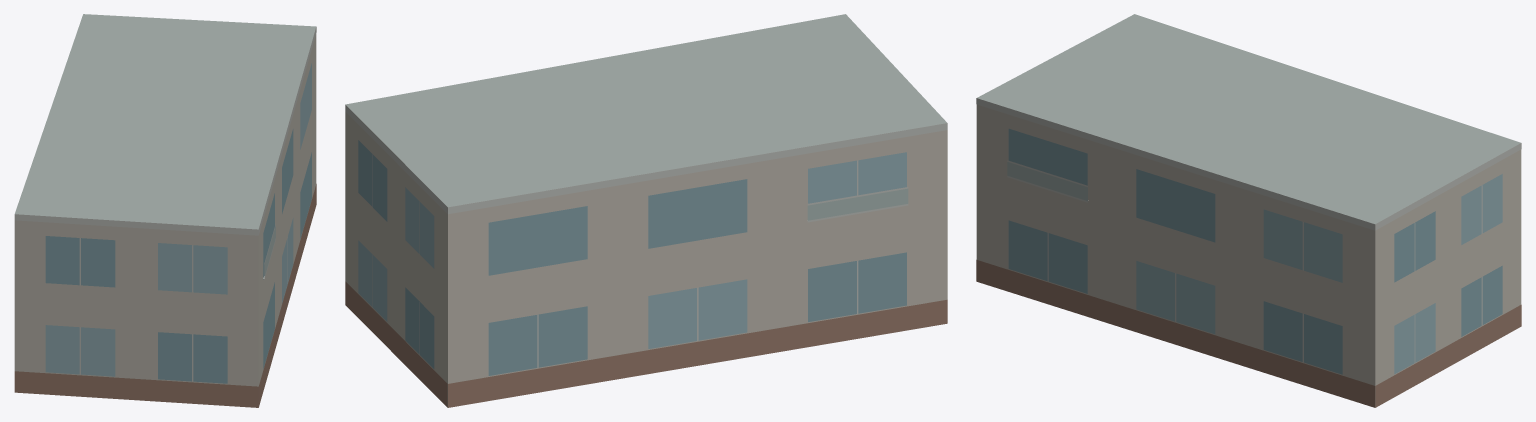
Rendered from survey-upis-33044867.glb.
3 views of the same model, side by side, from view 1: azimuth 30°, elevation 25°; view 2: azimuth 150°, elevation 25°; view 3: azimuth 270°, elevation 25° (orthographic). The views are drawn at different scales.
Visible parts, largest first — view 1: survey-upis-33044867.tmp; view 2: survey-upis-33044867.tmp; view 3: survey-upis-33044867.tmp.
Part boxes in pixels (left/top/right/bottom): survey-upis-33044867.tmp: left=14, top=14, right=316, bottom=407; survey-upis-33044867.tmp: left=345, top=14, right=947, bottom=407; survey-upis-33044867.tmp: left=976, top=14, right=1521, bottom=407.
Bounding box in the file's own units: 17.33 × 7.05 × 18.97.
